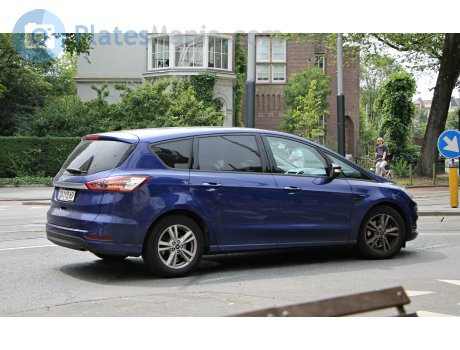License Plates: (49, 185, 75, 198)
